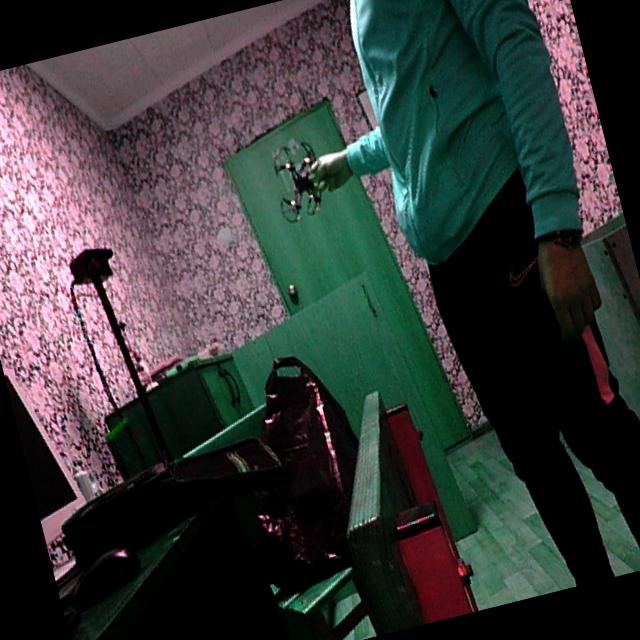drone: (254, 120, 340, 234)
